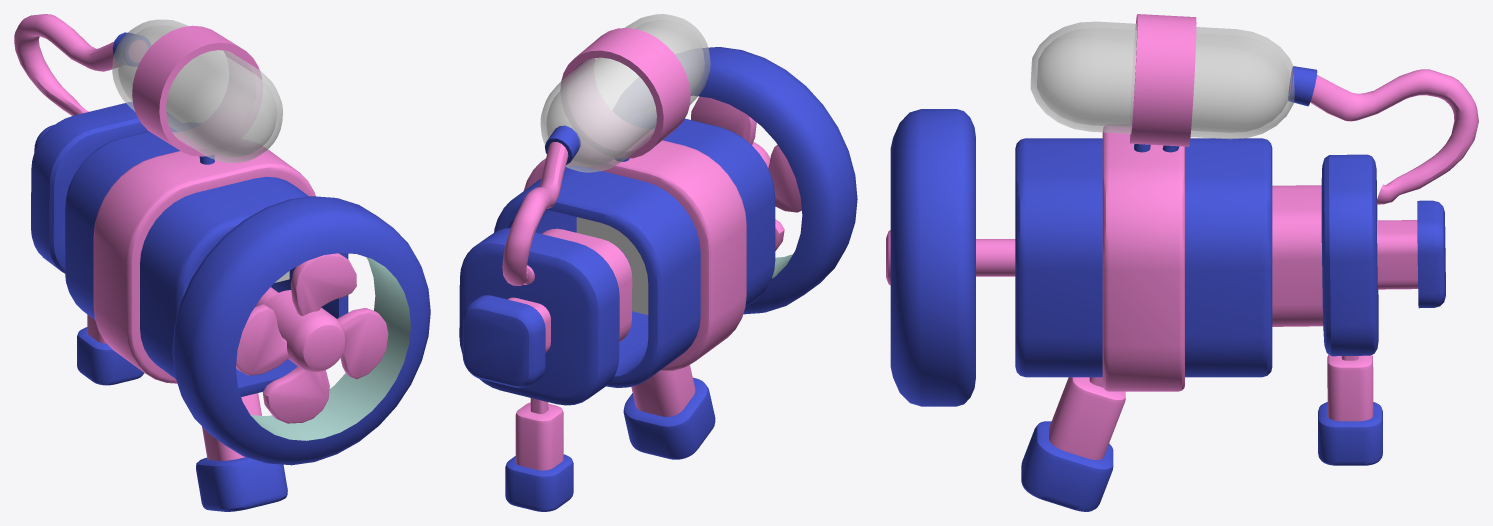
The model's file is Blowgun.fbx.
3 views of the same model, side by side, from view 1: azimuth 30°, elevation 25°; view 2: azimuth 150°, elevation 25°; view 3: azimuth 270°, elevation 25° (orthographic). The views are drawn at different scales.
Parts seen in each view (by area): view 1: Cylinder, Cube, Cylinder.002, Cylinder.001, Cube.003, Cylinder.005, Cube.002, Cube.004; view 2: Cube, Cube.003, Cylinder.002, Cylinder, Cube.002, Cube.004, Cylinder.005, Cylinder.001, Cube.006; view 3: Cube, Cylinder.002, Cylinder, Cube.003, Cube.002, Cylinder.005, Cube.004, Cylinder.001.
Part boxes in pixels (x1,y1,x2,y2): Cylinder: (172, 196, 430, 465); Cube: (65, 127, 348, 396); Cylinder.002: (112, 19, 282, 164); Cylinder.001: (236, 253, 388, 423); Cube.003: (31, 102, 148, 273); Cylinder.005: (14, 14, 150, 115); Cube.002: (196, 393, 287, 511); Cube.004: (77, 314, 144, 385); Cube: (494, 118, 775, 387); Cube.003: (459, 228, 632, 405); Cylinder.002: (540, 14, 710, 172); Cylinder: (691, 47, 857, 314); Cube.002: (623, 365, 715, 459); Cube.004: (505, 398, 573, 511); Cylinder.005: (502, 125, 580, 285); Cylinder.001: (691, 96, 801, 250); Cube.006: (597, 222, 648, 314); Cube: (1015, 126, 1272, 391); Cylinder.002: (1030, 14, 1294, 152); Cylinder: (890, 109, 975, 406); Cube.003: (1272, 154, 1445, 356); Cube.002: (1021, 377, 1125, 511); Cylinder.005: (1288, 66, 1478, 204); Cube.004: (1318, 354, 1382, 465); Cylinder.001: (886, 230, 1015, 285).
Size of the model in its own units: 200 by 356 by 398.
